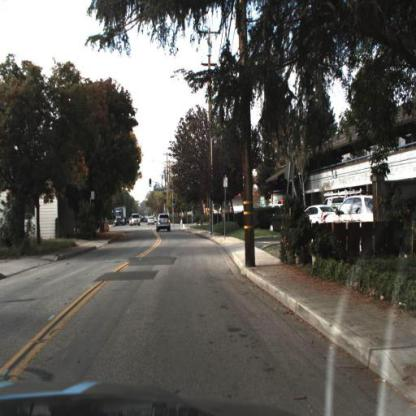car: (336, 198, 389, 231), (305, 206, 339, 227), (156, 211, 173, 237)
